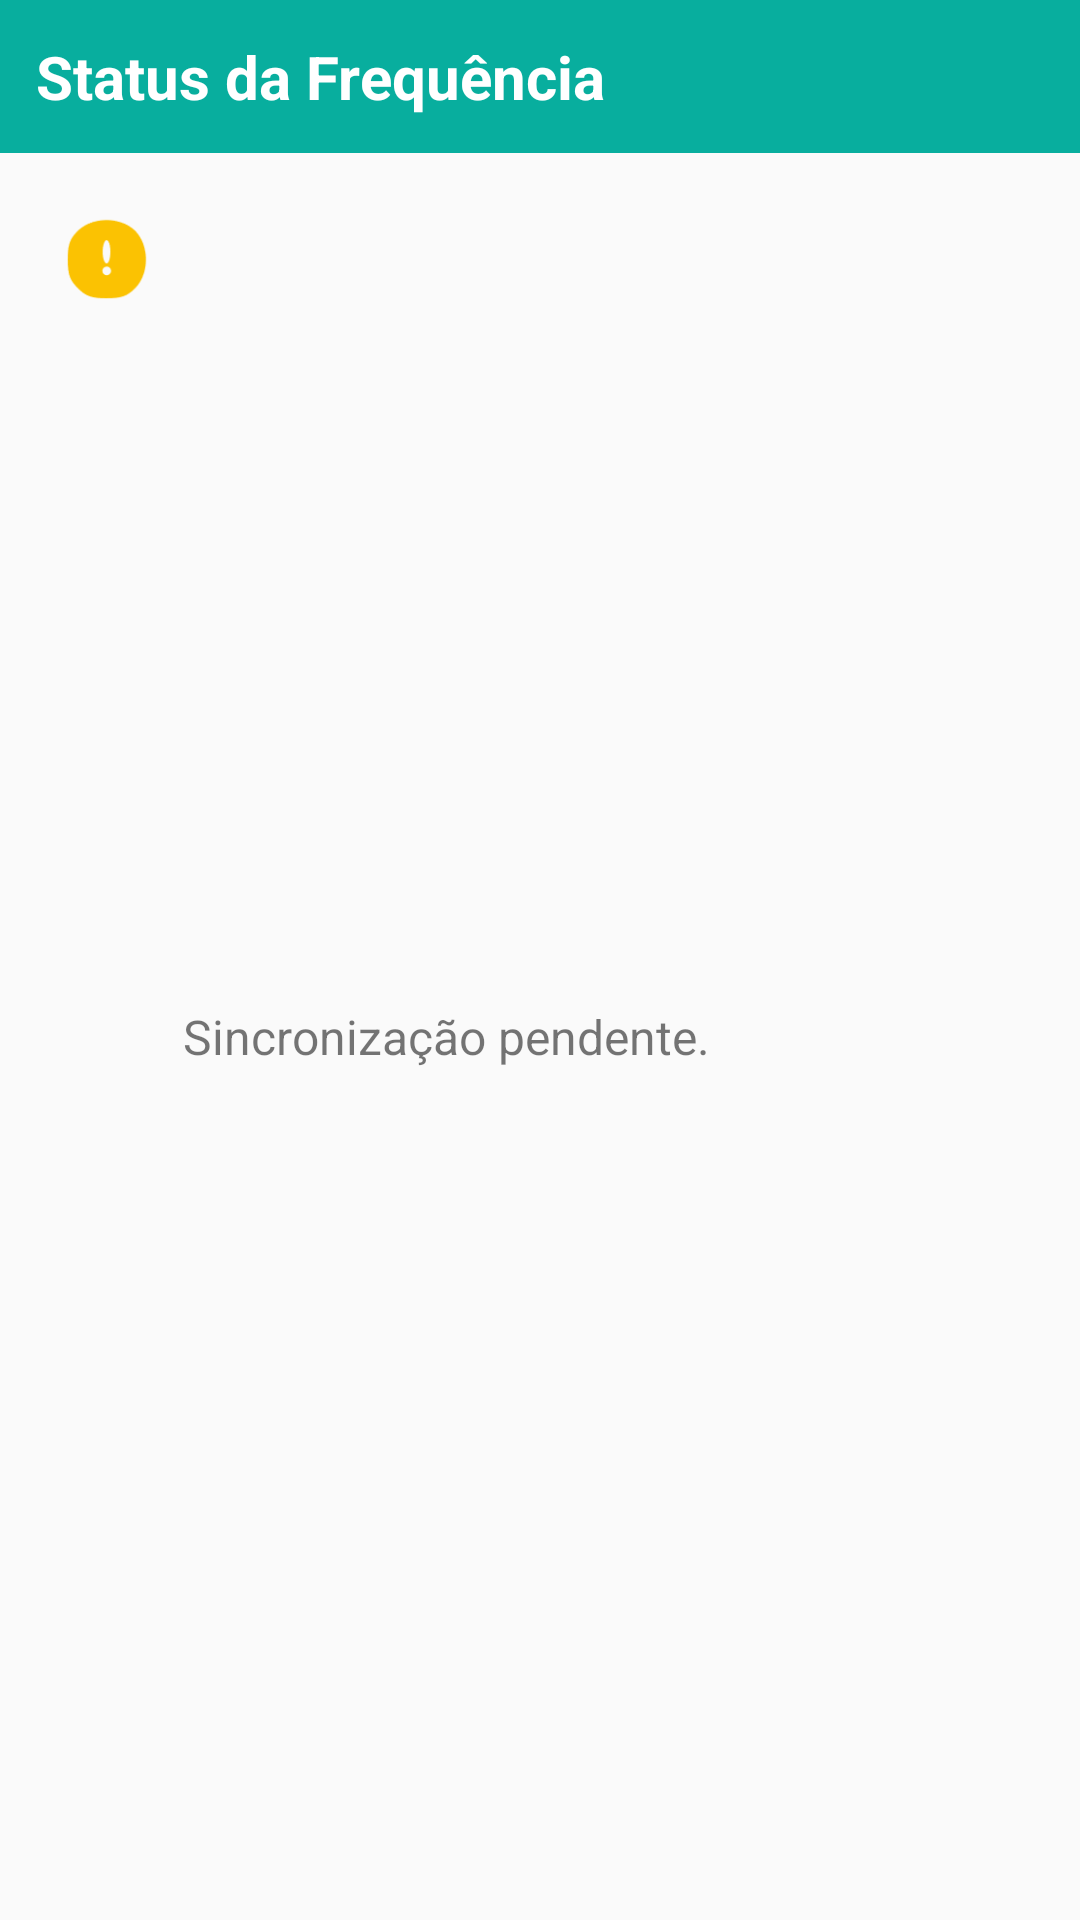

Where icons sit on this 1080×1920 app screen, as (x1, y1, x2, y2):
pendente: (67, 219, 147, 299)
